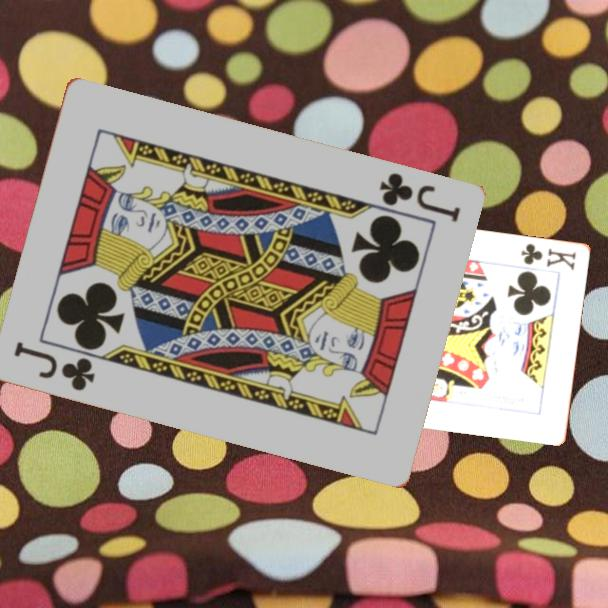c11: (9, 338, 97, 395), (375, 169, 463, 226)
c13: (518, 240, 579, 273)
